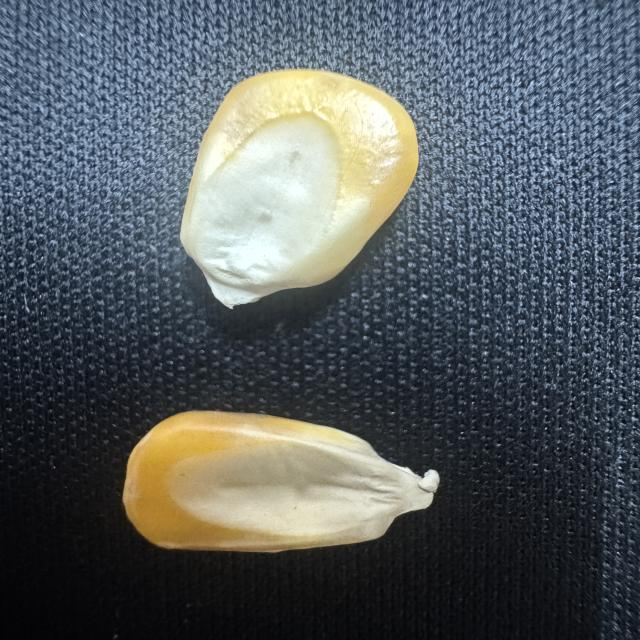Good-Seed: (170, 59, 426, 311), (114, 404, 444, 560)
